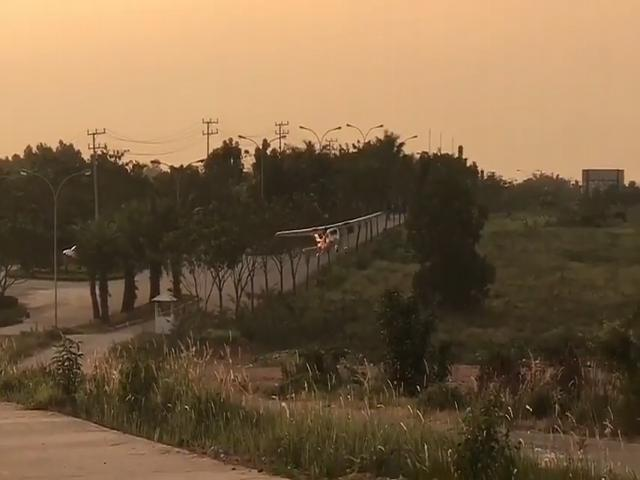plane: (275, 210, 380, 255)
